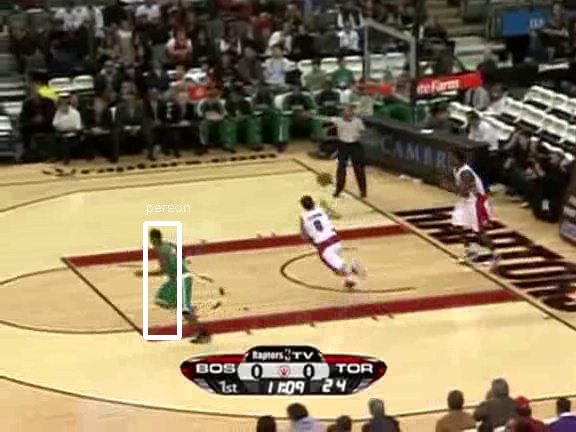person: (161, 238, 195, 319), (160, 238, 194, 319), (162, 238, 196, 319), (161, 237, 195, 318), (161, 239, 195, 320)
target_negative: (461, 112, 528, 291), (398, 262, 454, 339), (83, 195, 257, 211), (433, 209, 522, 213), (514, 273, 524, 290), (397, 23, 399, 43)
